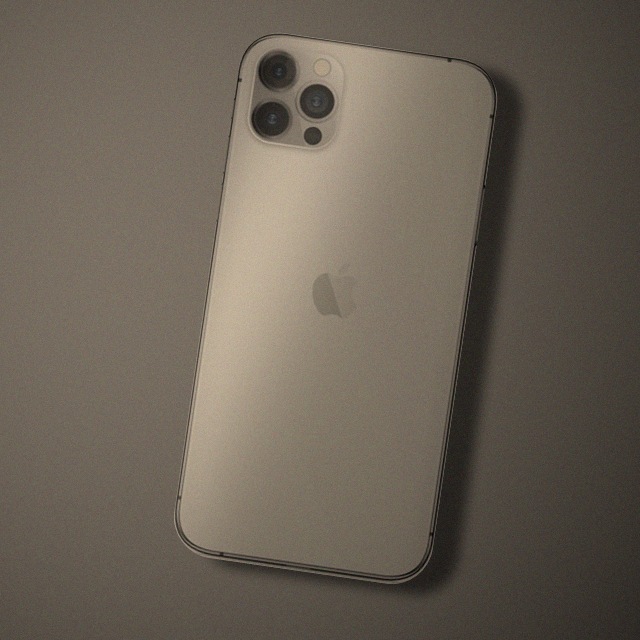iphone_12pro_silver: (148, 20, 563, 626), (241, 38, 358, 161)
